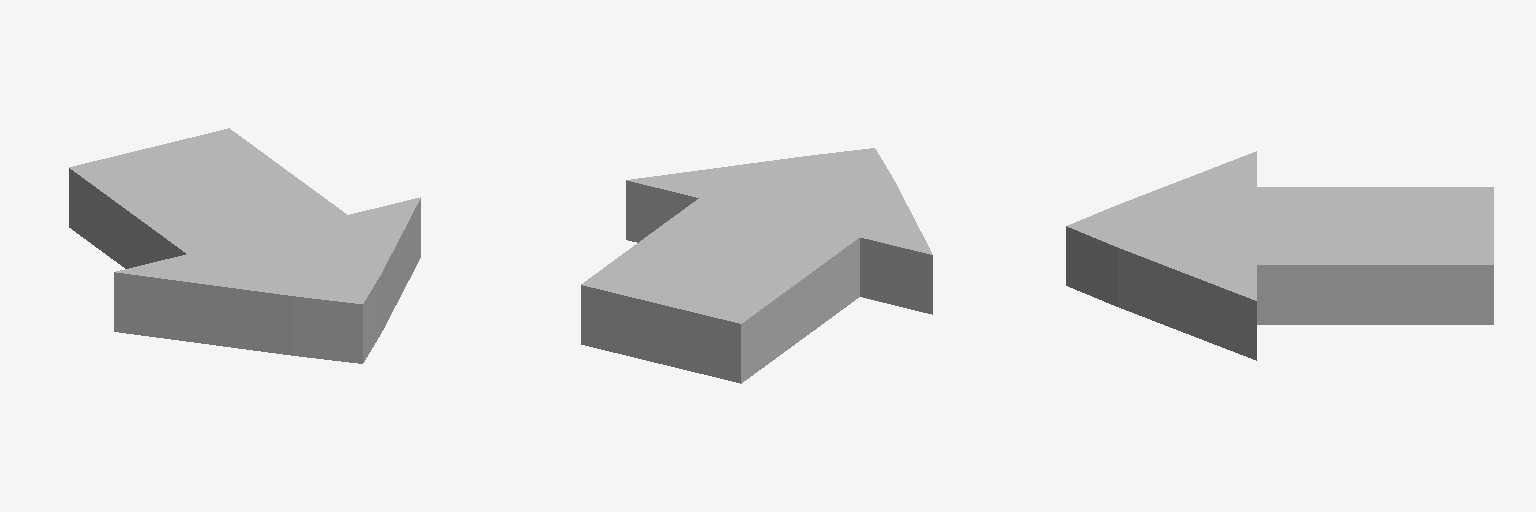
Rendered from arrow.obj.
The picture shows the model from 3 angles: view 1: azimuth 30°, elevation 25°; view 2: azimuth 150°, elevation 25°; view 3: azimuth 270°, elevation 25°; orthographic projection.
Visible parts, largest first — view 1: Cube; view 2: Cube; view 3: Cube.
Boxes of the visible parts, box(x1,y1,x2,y2) form: Cube: box(69, 128, 420, 363); Cube: box(581, 148, 932, 383); Cube: box(1066, 151, 1493, 360).
Size of the model in its own units: 3.65 by 0.6764 by 4.4.